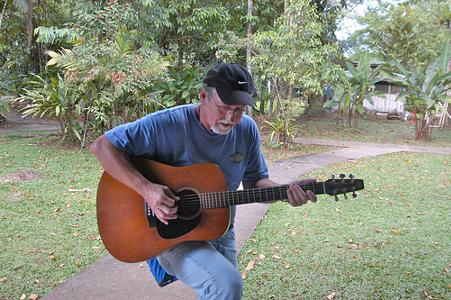person: (90, 62, 319, 299)
